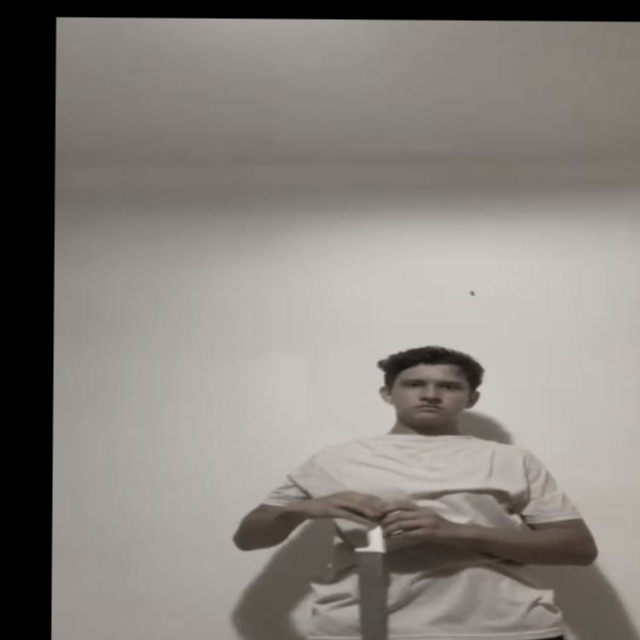Sharp-Object: (349, 553, 385, 640)
